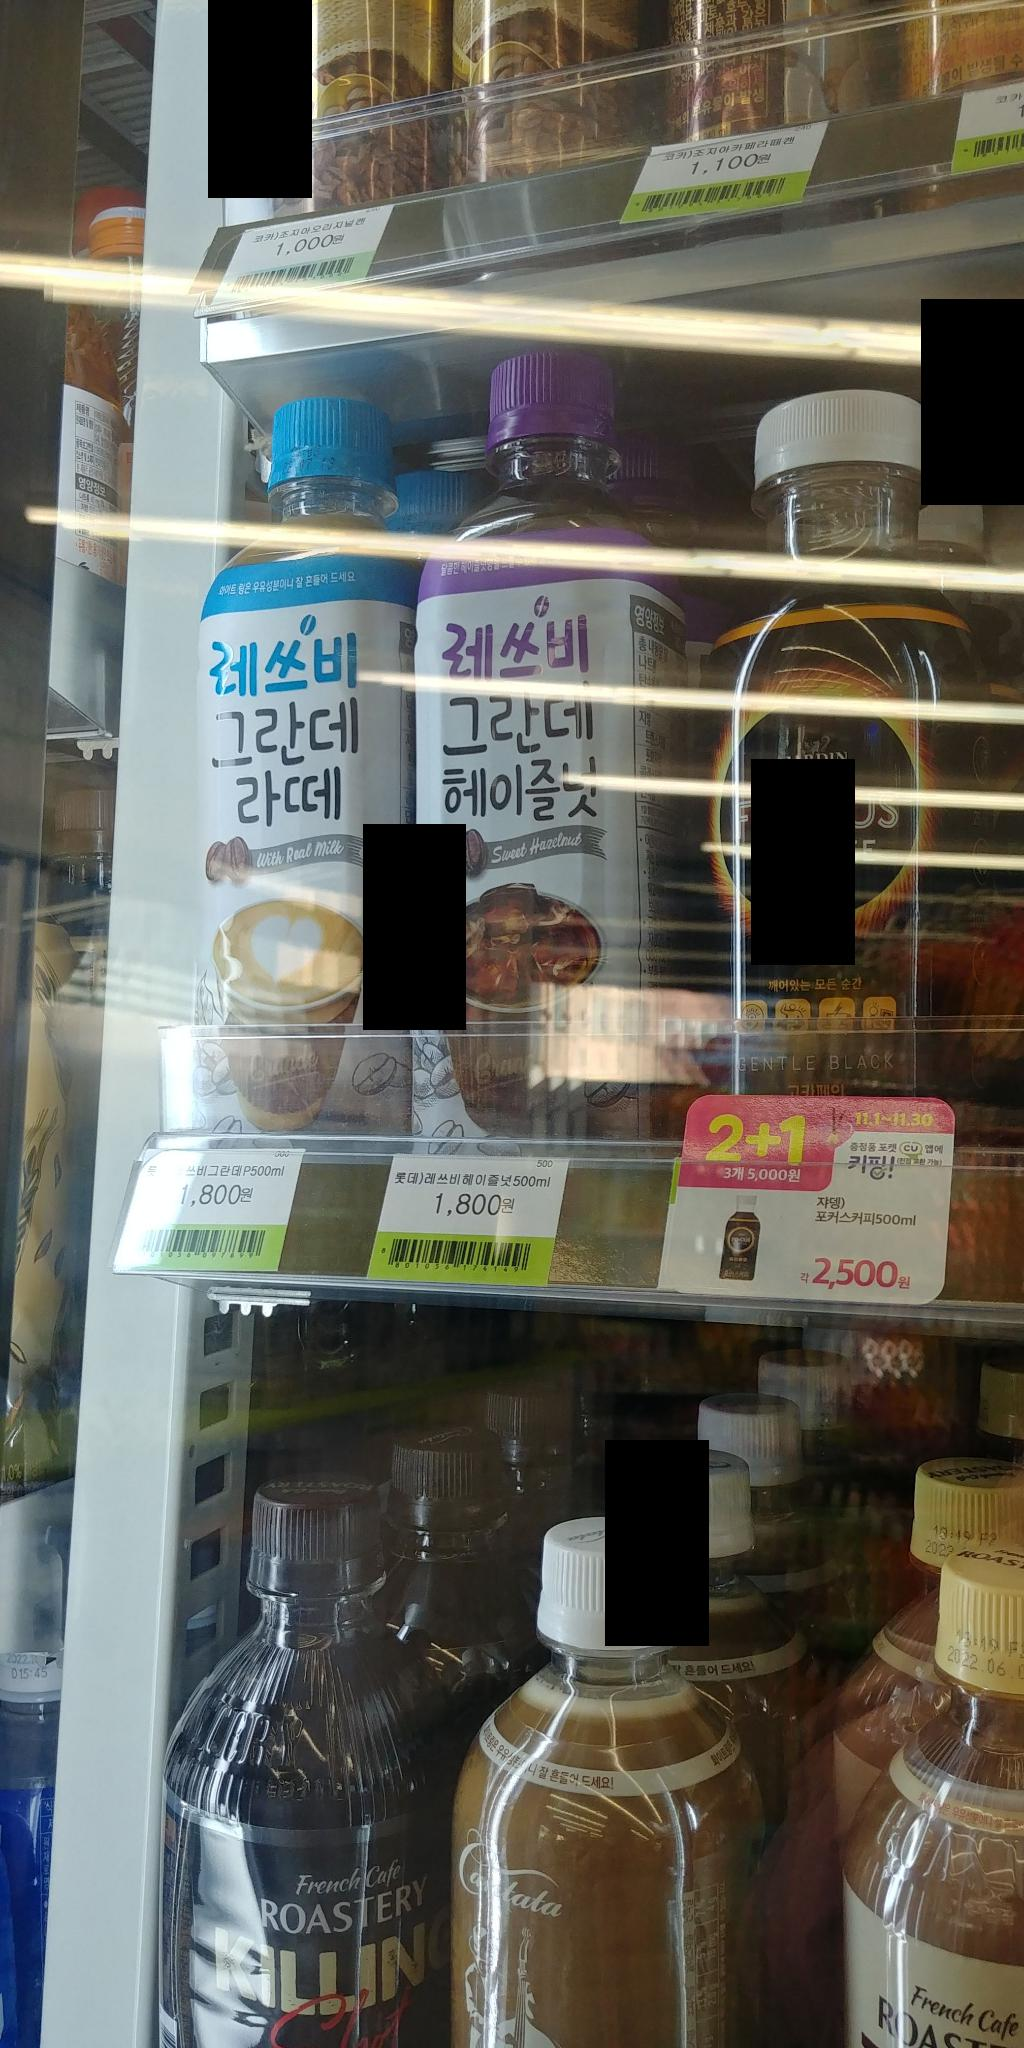letsbe_grande_hazelnut: (385, 333, 721, 1172)
